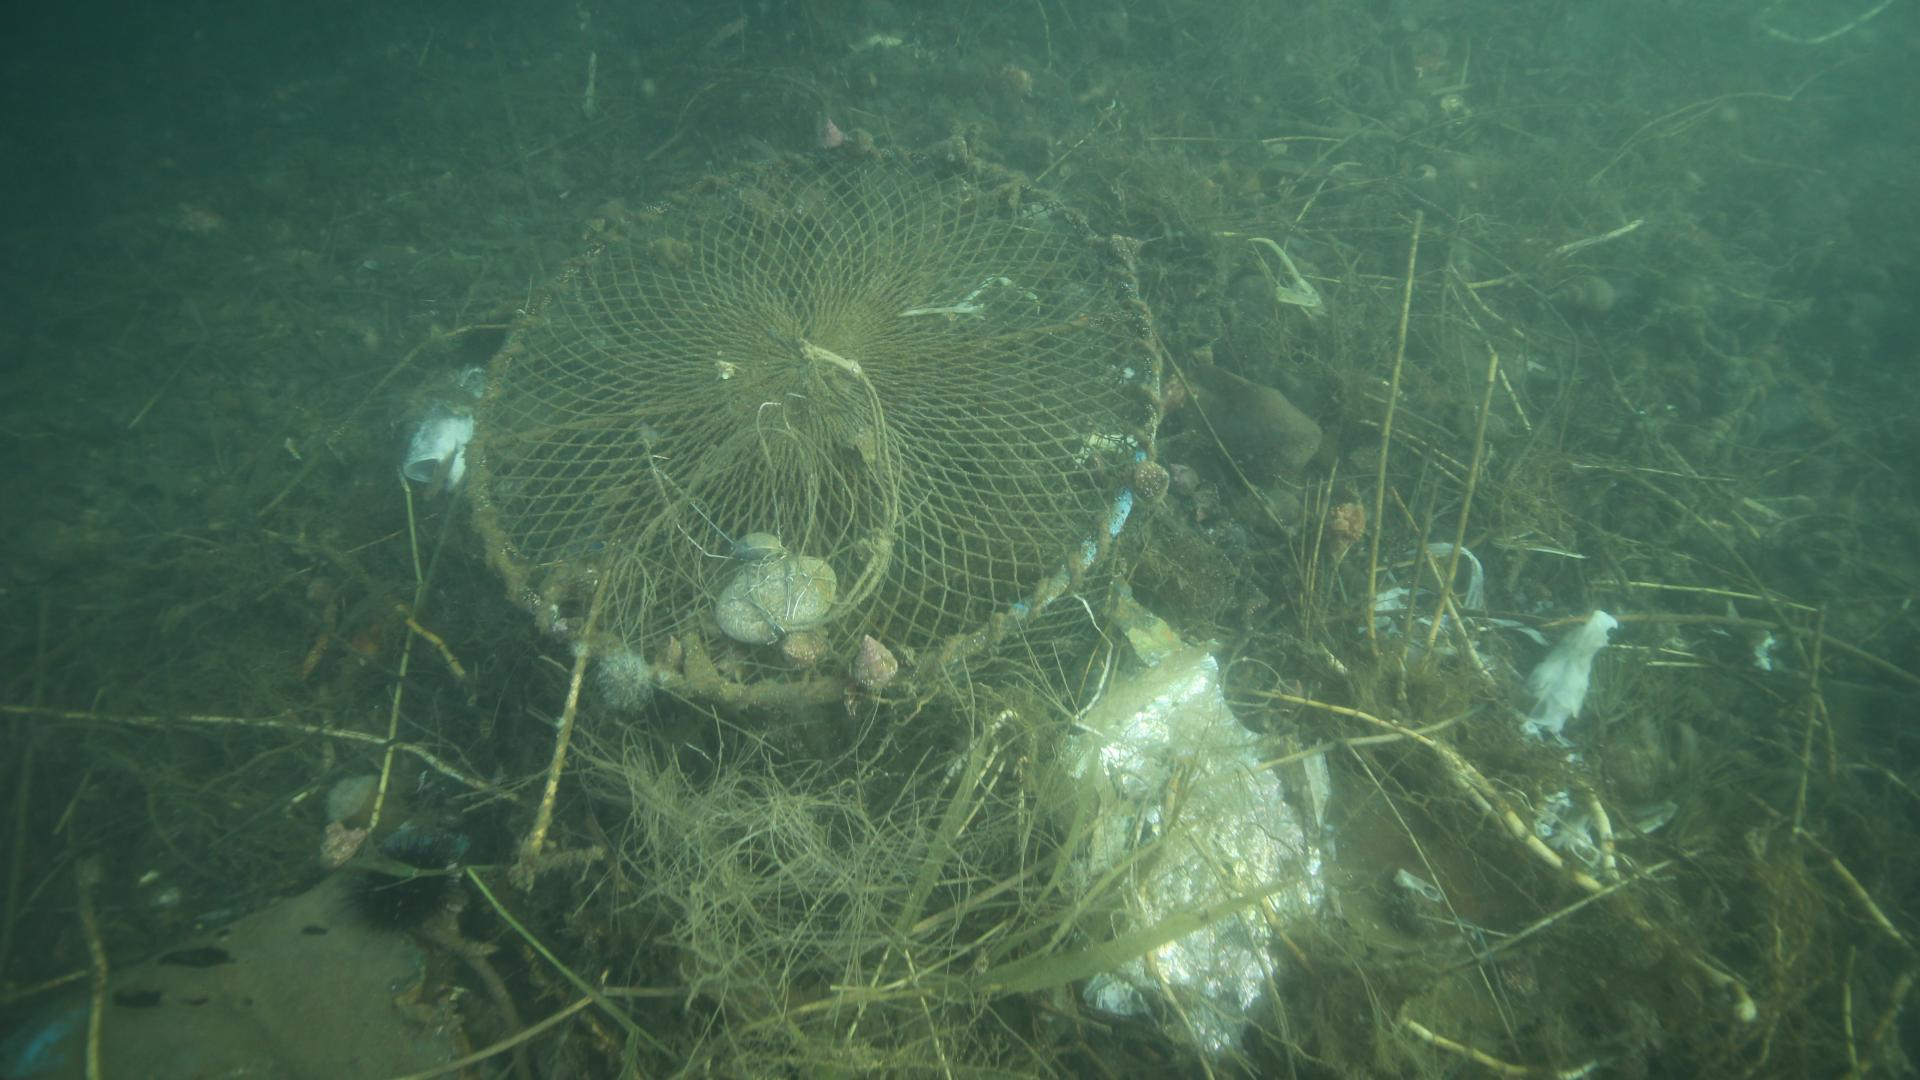circular fish trap: (464, 132, 1180, 738)
